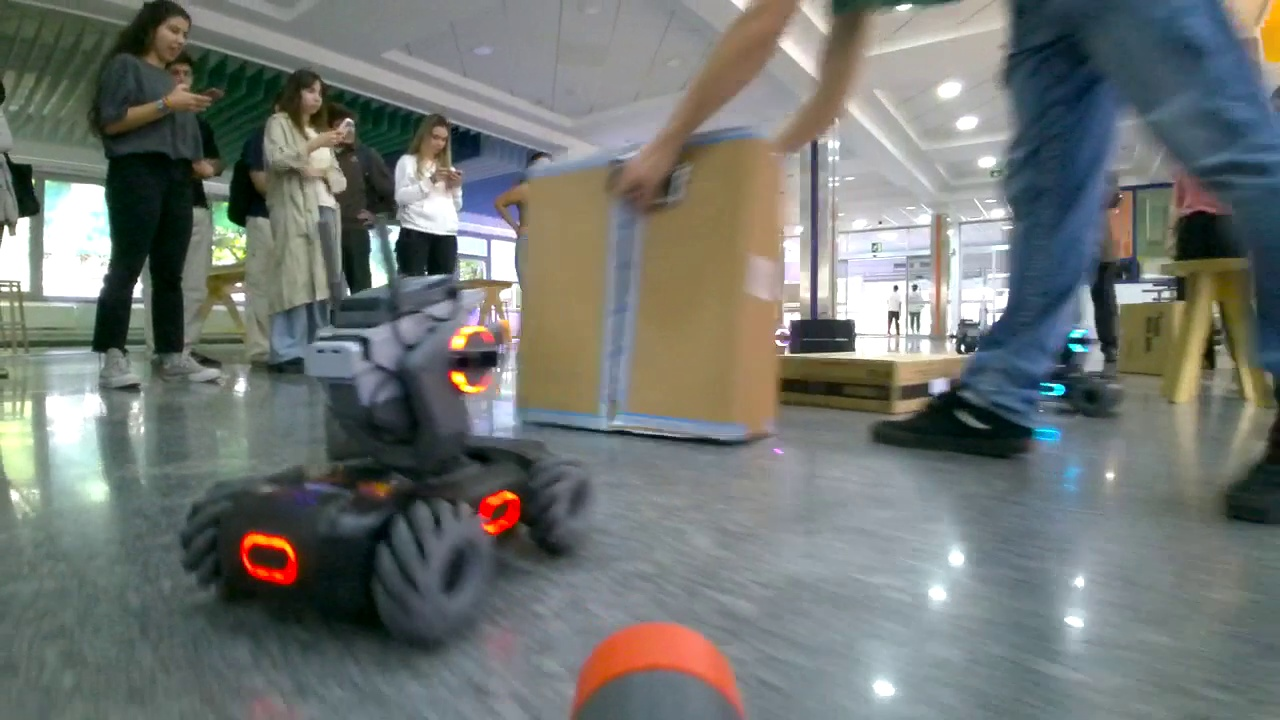robot: (176, 277, 596, 656)
